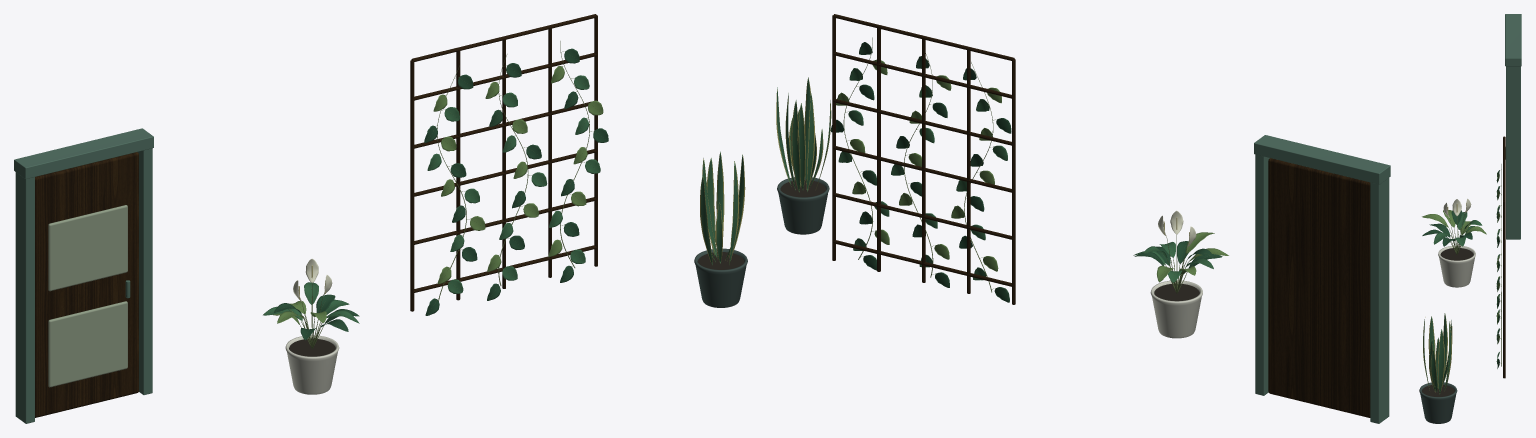
The model's file is south.glb.
3 views of the same model, side by side, from view 1: azimuth 30°, elevation 25°; view 2: azimuth 150°, elevation 25°; view 3: azimuth 270°, elevation 25° (orthographic). The views are drawn at different scales.
Visible parts, largest first — view 1: garden-conservatory south; view 2: garden-conservatory south; view 3: garden-conservatory south.
Boxes of the visible parts, x1,y1,x2,y2 form: garden-conservatory south: (14,14,747,423); garden-conservatory south: (776,14,1390,423); garden-conservatory south: (1419,14,1521,423).
Bounding box in the file's own units: 7.32 × 2.83 × 1.36.
13 materials, 1 textured.
